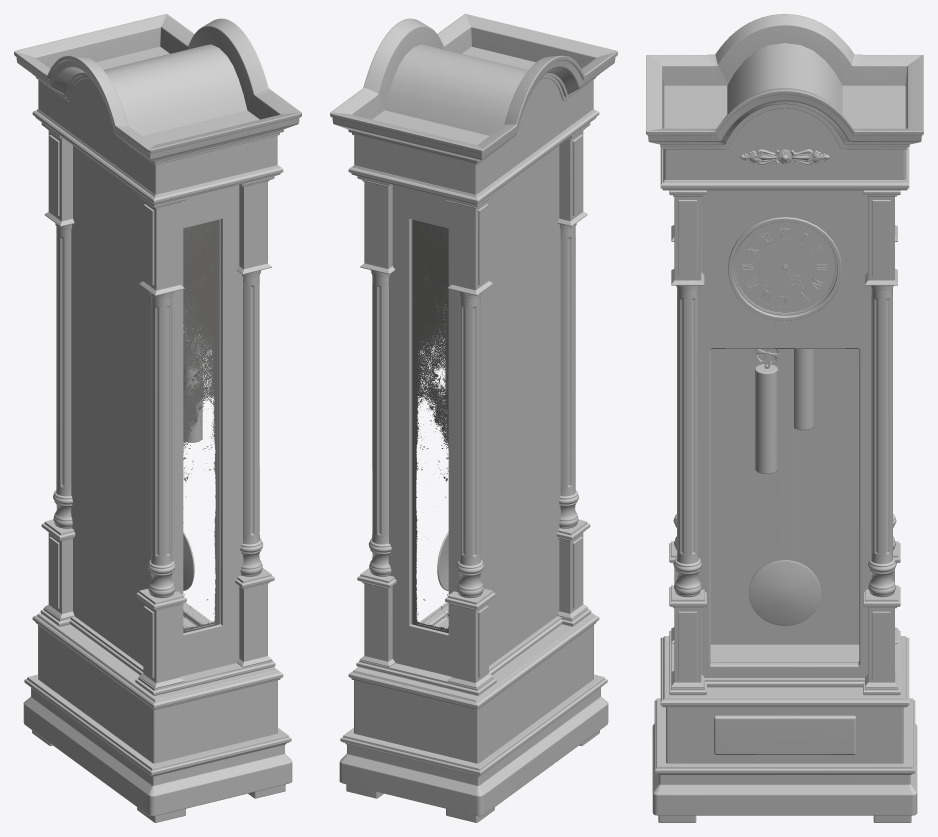
File: Clock.obj
3 renders of one model, left to right at view 1: azimuth 30°, elevation 25°; view 2: azimuth 150°, elevation 25°; view 3: azimuth 270°, elevation 25°, orthographic. The views are drawn at different scales.
Parts seen in each view (by area): view 1: Clock; view 2: Clock; view 3: Clock.
Part boxes in pixels (box(x1,y1,x2,y2)): Clock: box(14, 14, 301, 822); Clock: box(330, 14, 617, 822); Clock: box(646, 14, 923, 822).
Size of the model in its own units: 0.4747 by 2.13 by 0.7267.
